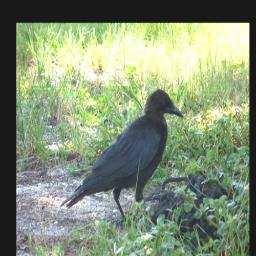Crow: (60, 88, 184, 228)
